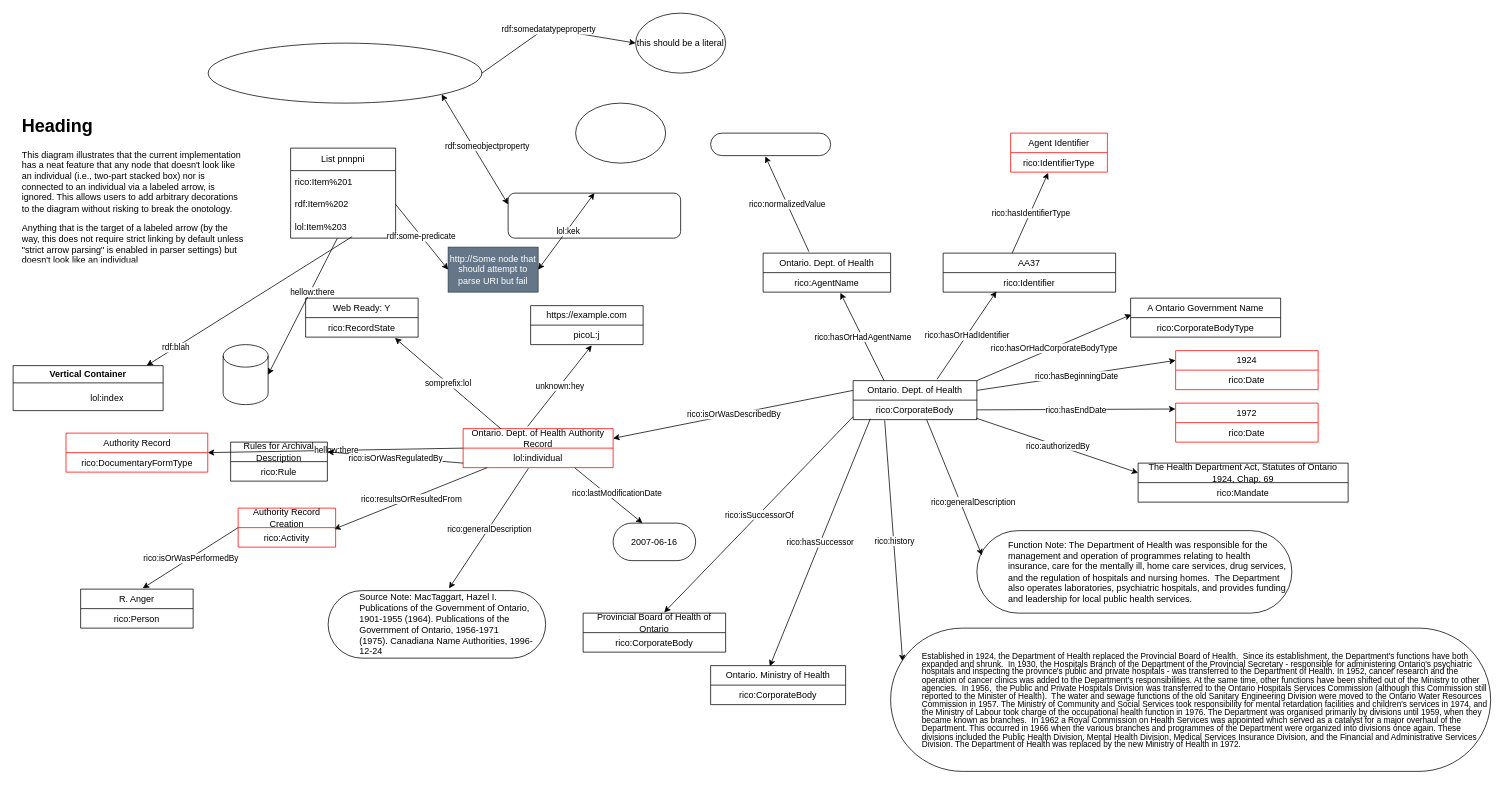
Image size: 1504x785. Some labels were removed from this diagram. Here are the shapes that lost their labels. From the top down, the centre of each, then its label:
(x=344, y=72): rico:thisShouldBeStandaloneIndividualIInNamespaceRico
(x=620, y=132): this should be a decoration
(x=770, y=144): Department of Health
(x=594, y=215): http://someuridemonstratingstandaolne
(x=245, y=374): lolabout
